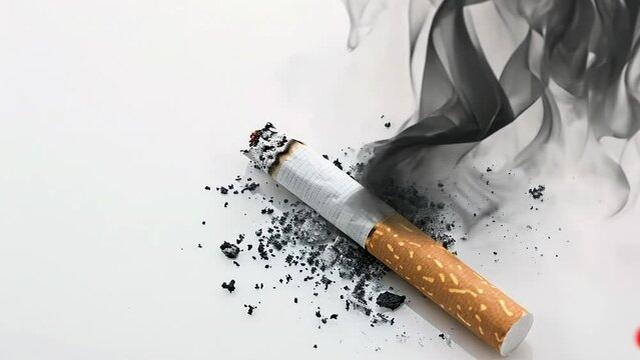Cigarette: (240, 120, 533, 356)
